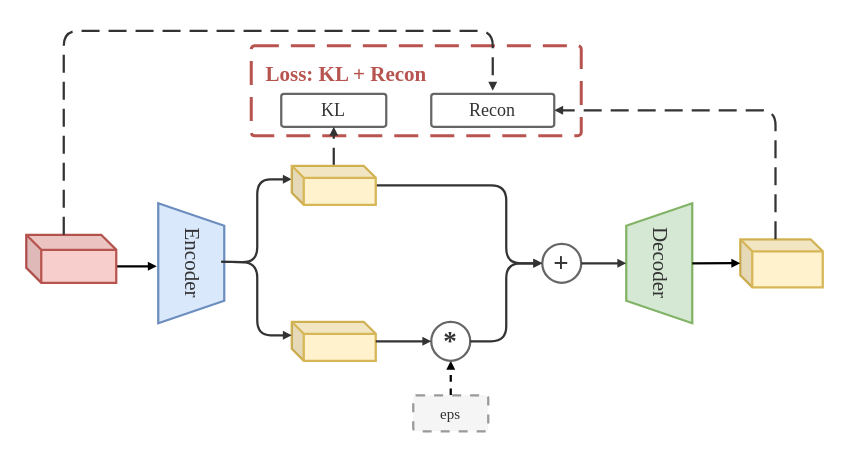
Some shapes in this 851 by 459 pixel diagram are drawn without their labels. The centre of each missing label's shape, as x and y in pixels:
Input: point (70, 258)
mu: point (333, 184)
Output: point (780, 262)
sigma: point (333, 340)
